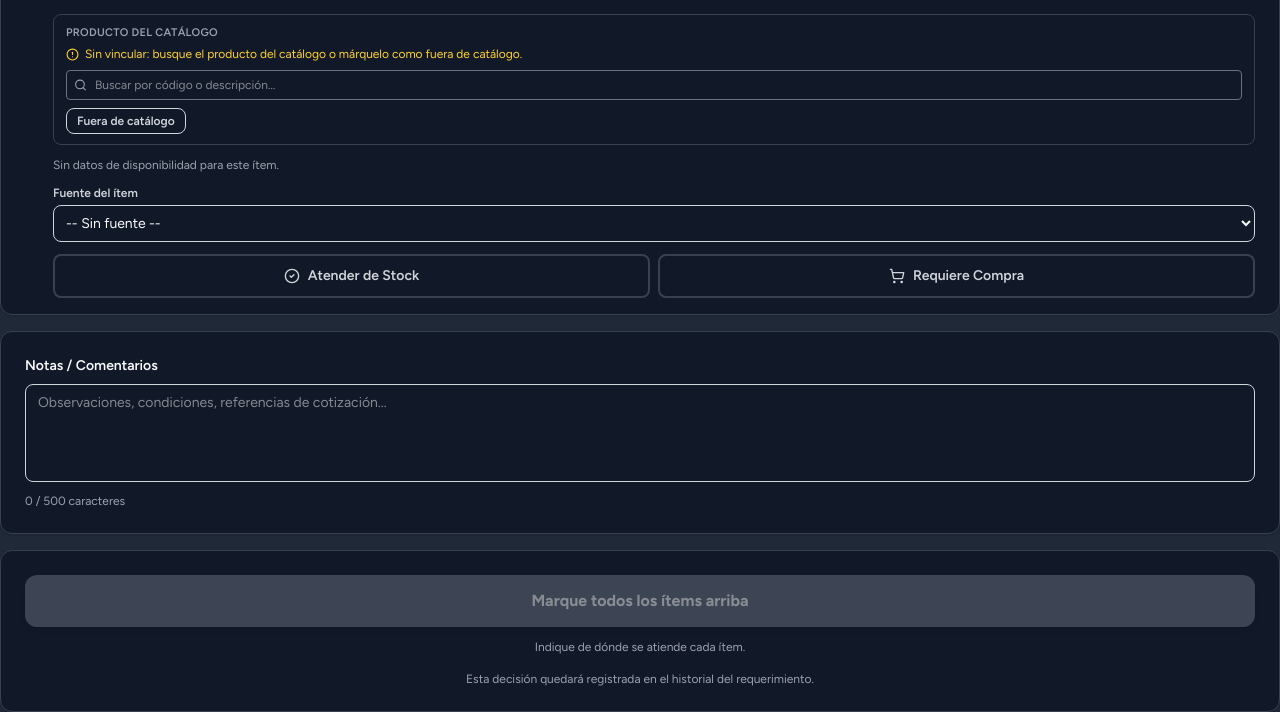
Test: StockCheckPanel — confirmar › mientras falte decidir un ítem el botón avisa por qué y no envía
The width and height of the screenshot is (1280, 712).
(page scrolled)
expect the text "Indique de dónde se atiende cada ítem." is shown: met, box [535,640,745,654]
Click the button "Marque todos los ítems arriba".
click(640, 600)  # box [25,574,1255,626]
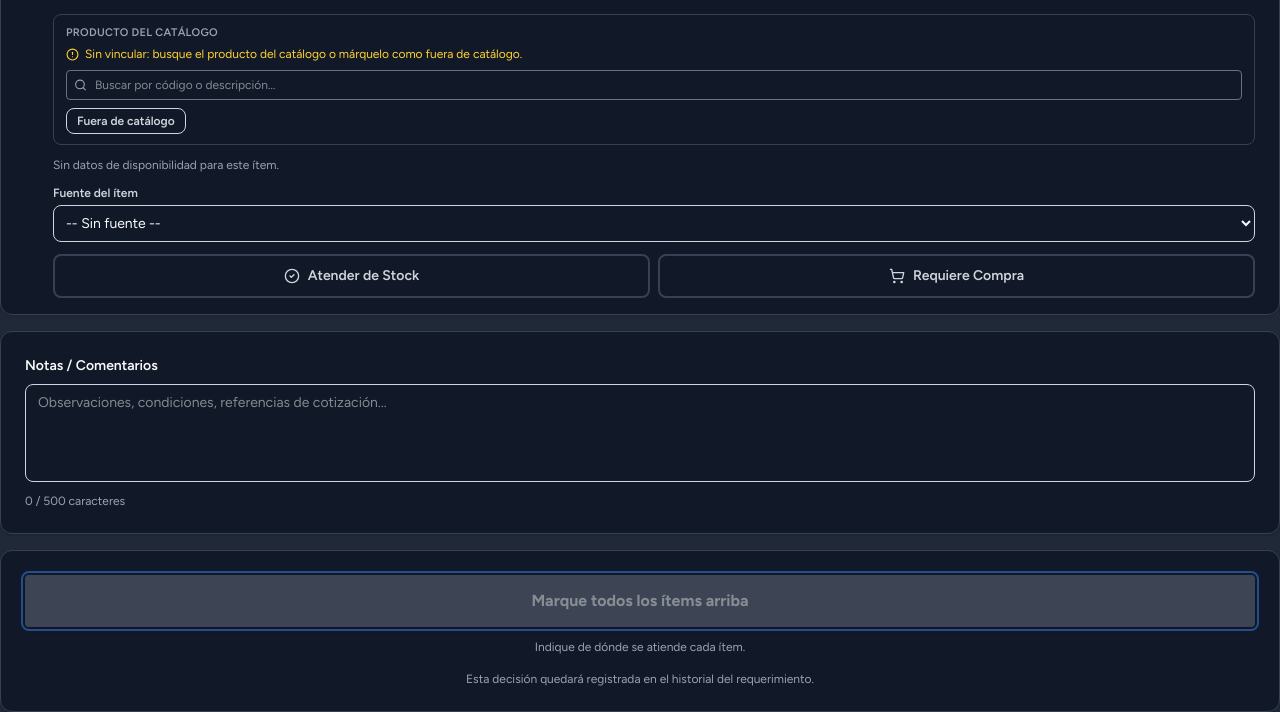
Click the button "Requiere Compra".
click(956, 276)  # box [658,254,1255,298]
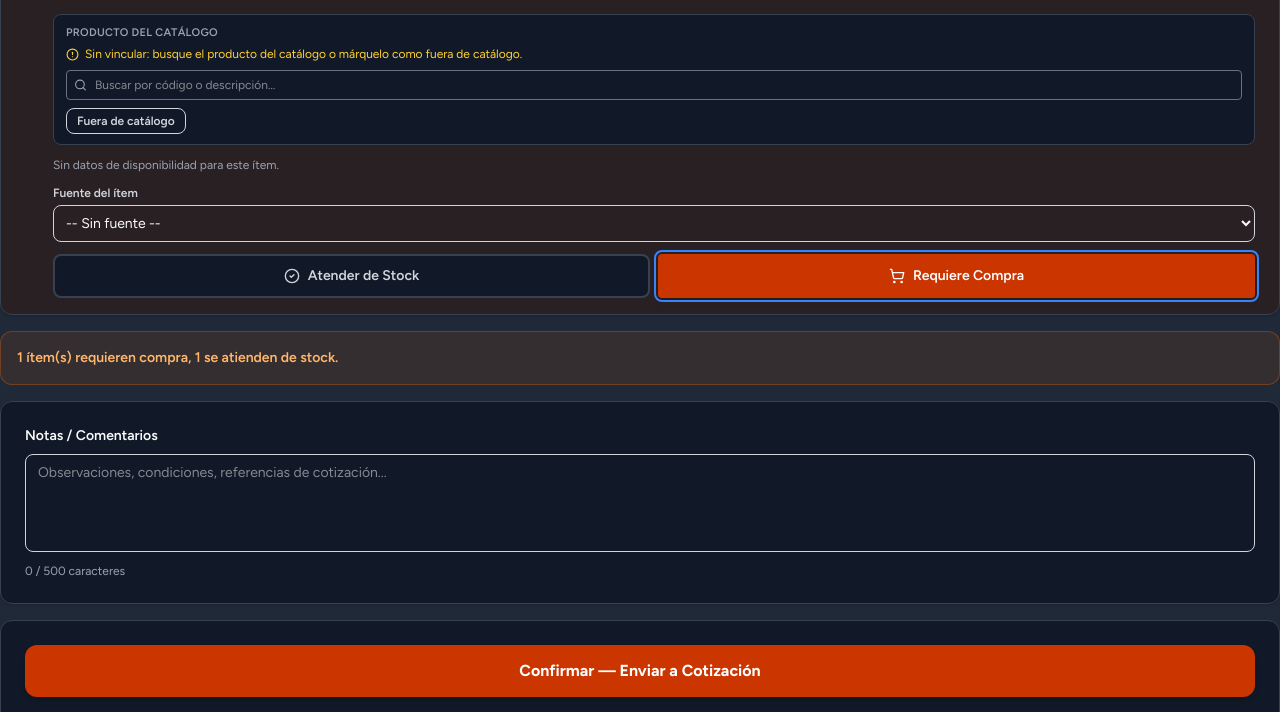
expect the button "Confirmar — Enviar a Cotización" is shown: met, box [25,644,1255,696]
